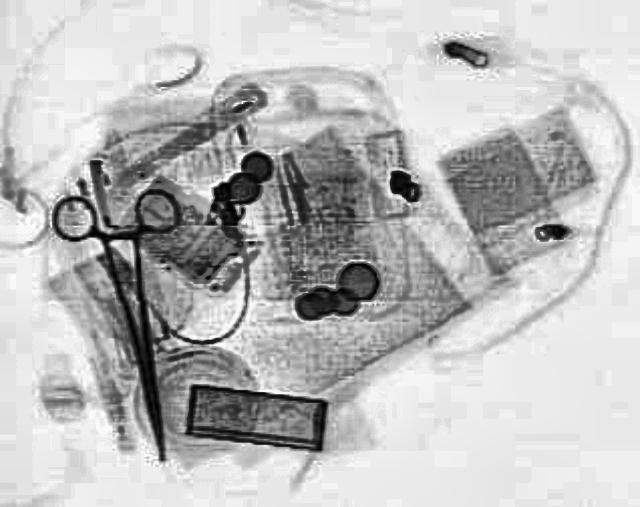Scissors: (45, 183, 223, 465)
